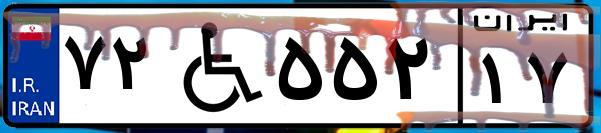1: (475, 38, 525, 113)
2: (385, 28, 445, 110), (110, 28, 158, 98)
5: (270, 28, 330, 110), (330, 28, 385, 110)
7: (57, 26, 110, 100), (525, 38, 570, 115)
ژ (معلولین و جانبازان): (158, 12, 270, 120)
